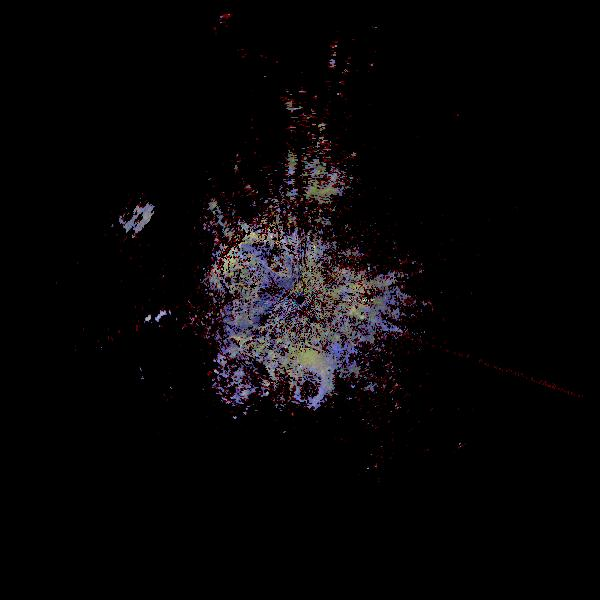roost: (259, 334, 346, 421), (375, 265, 420, 310)
